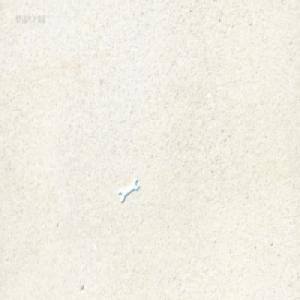Wrench: (118, 178, 139, 204)
